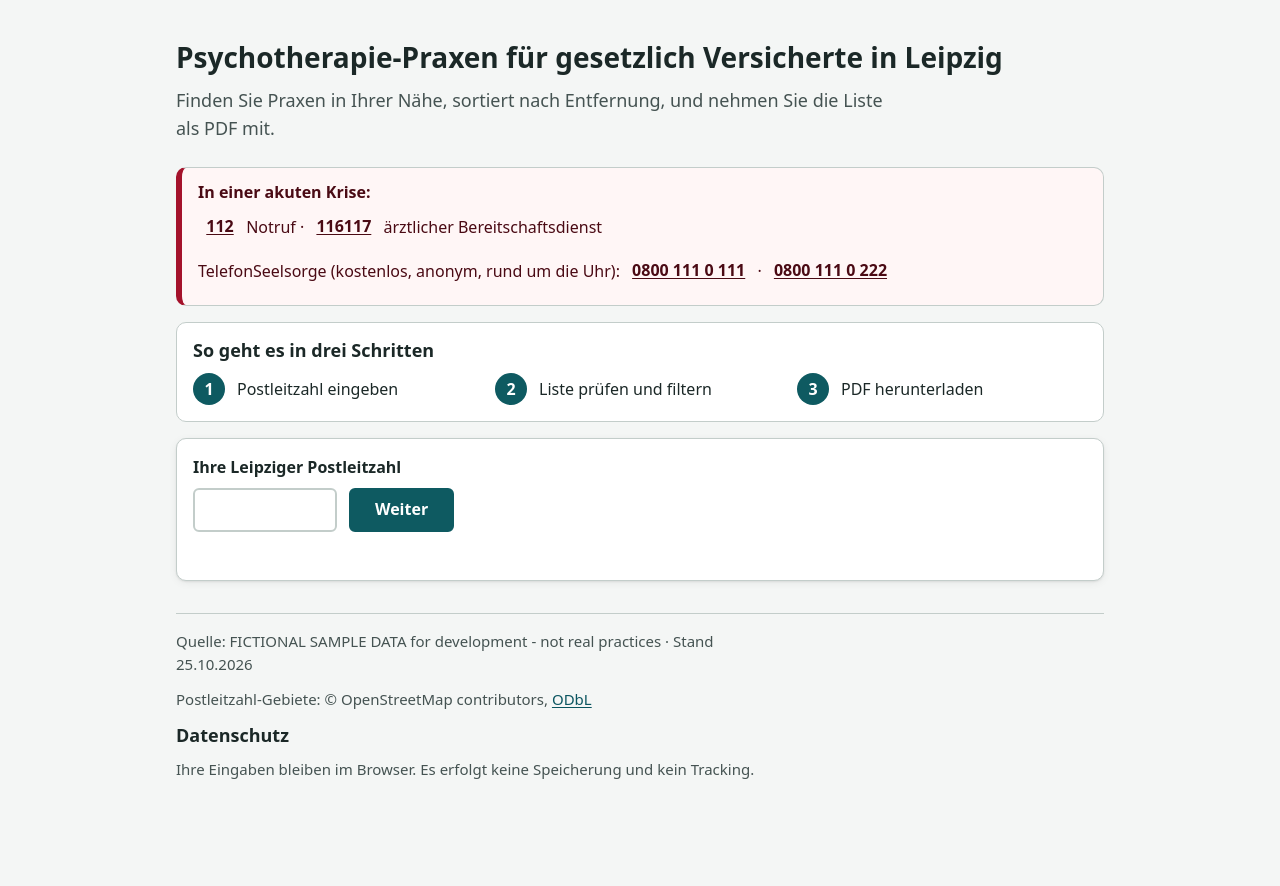
it: PDF download › shows an error when generation fails
The image size is (1280, 886).
Step 1. Type "04318" into the field labelled "Ihre Leipziger Postleitzahl" → (265, 510), box [193, 488, 337, 532]
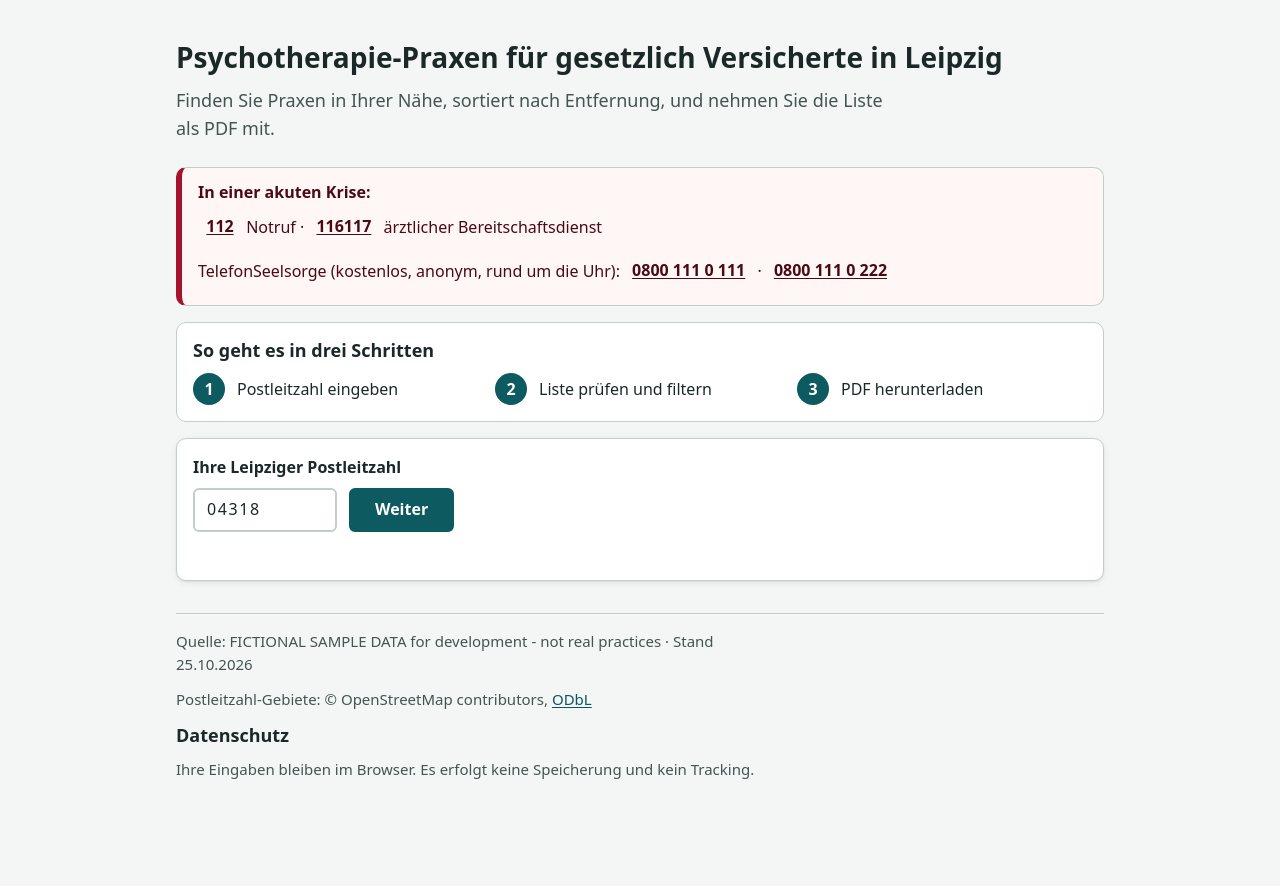
Step 2. Click the button "Weiter" → (402, 510), box [349, 488, 454, 532]
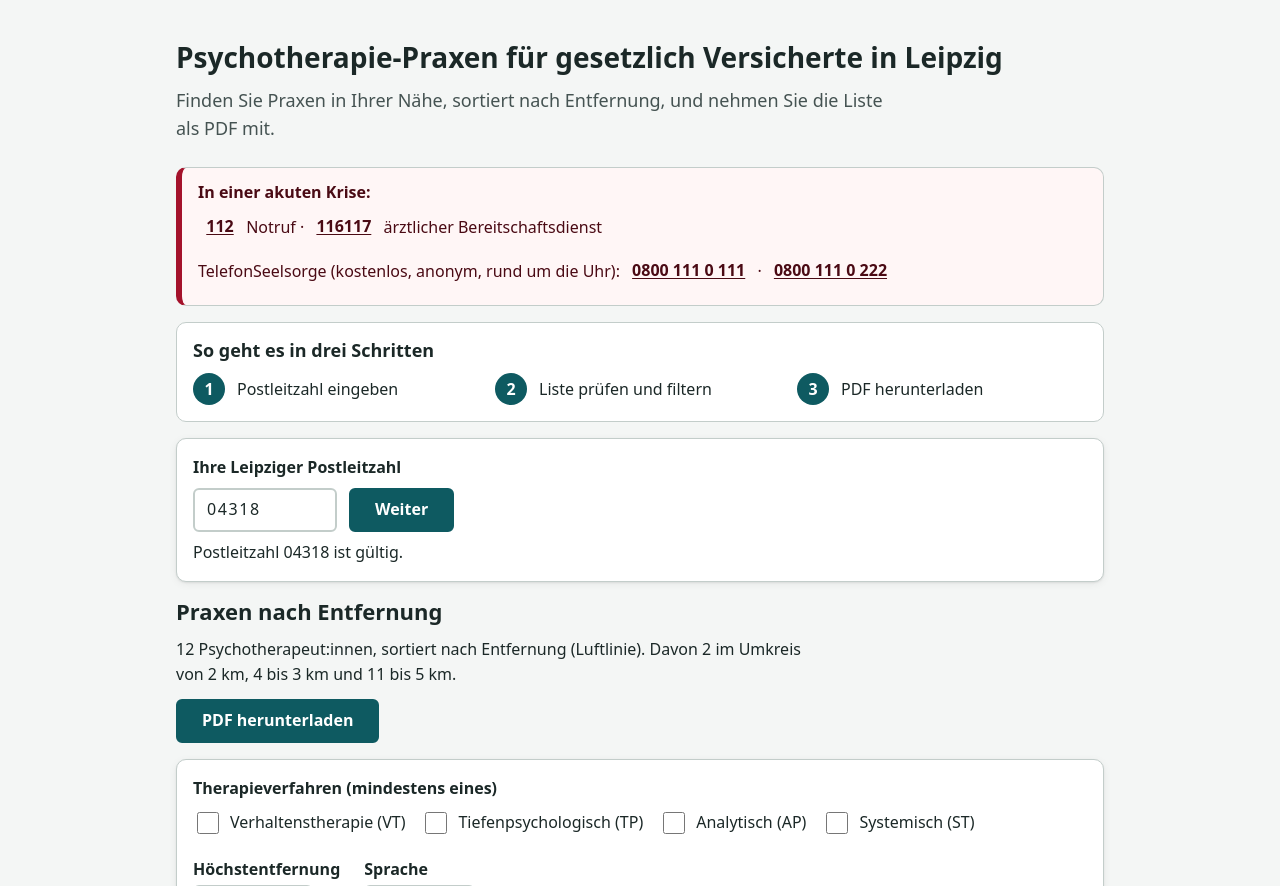
Step 3. Click the button "PDF herunterladen" → (278, 721), box [176, 699, 379, 743]
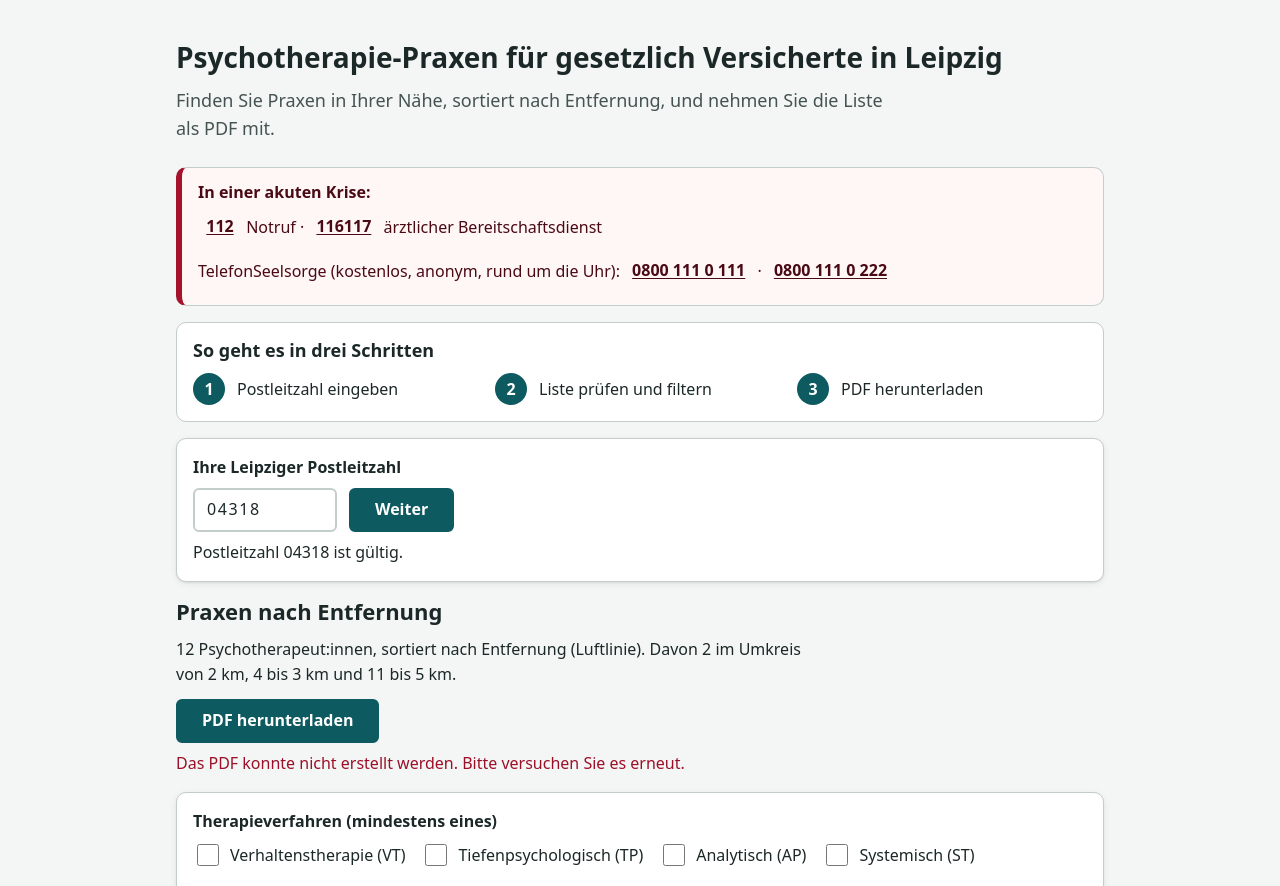
Expected: the text "Das PDF konnte nicht erstellt werden. Bitte versuchen Sie es erneut." is shown, [176, 752, 685, 774]
